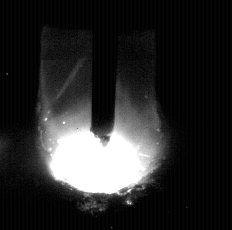arame: (92, 0, 116, 146)
poca: (38, 0, 169, 230)
